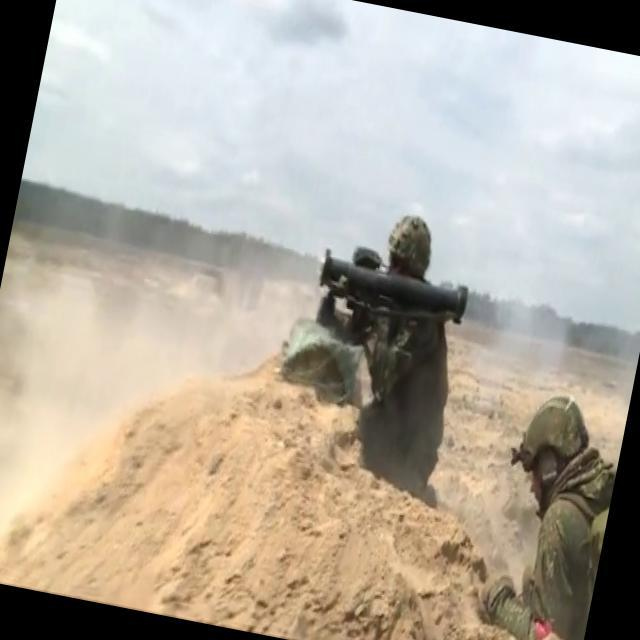rocket: (312, 240, 474, 330)
